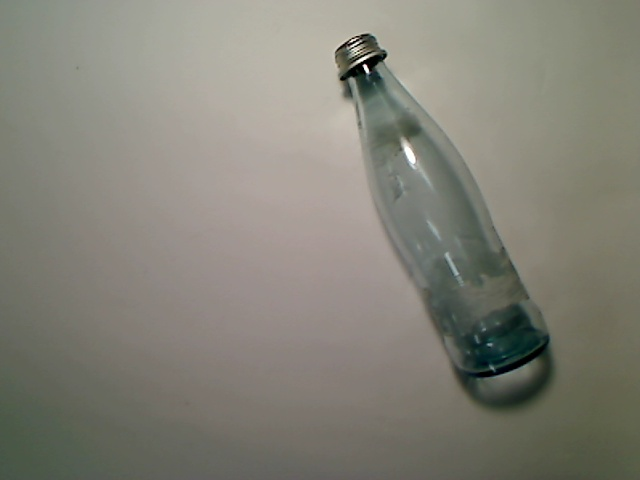bottle: (334, 33, 551, 379)
